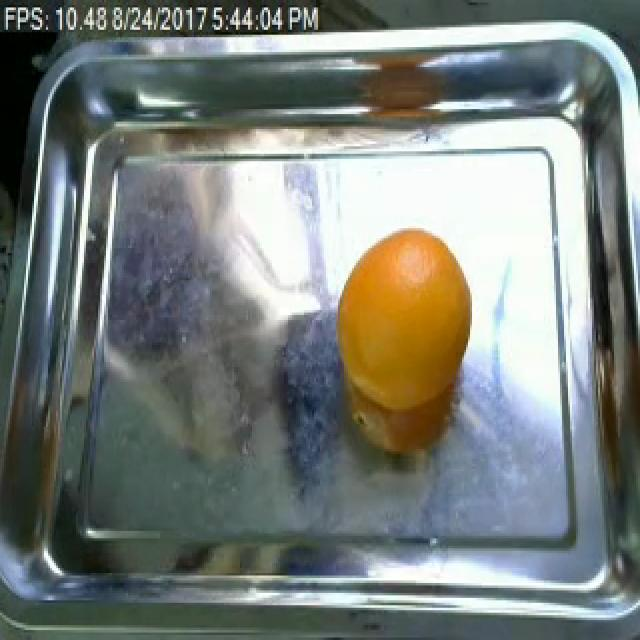Fruit: (328, 218, 480, 462)
